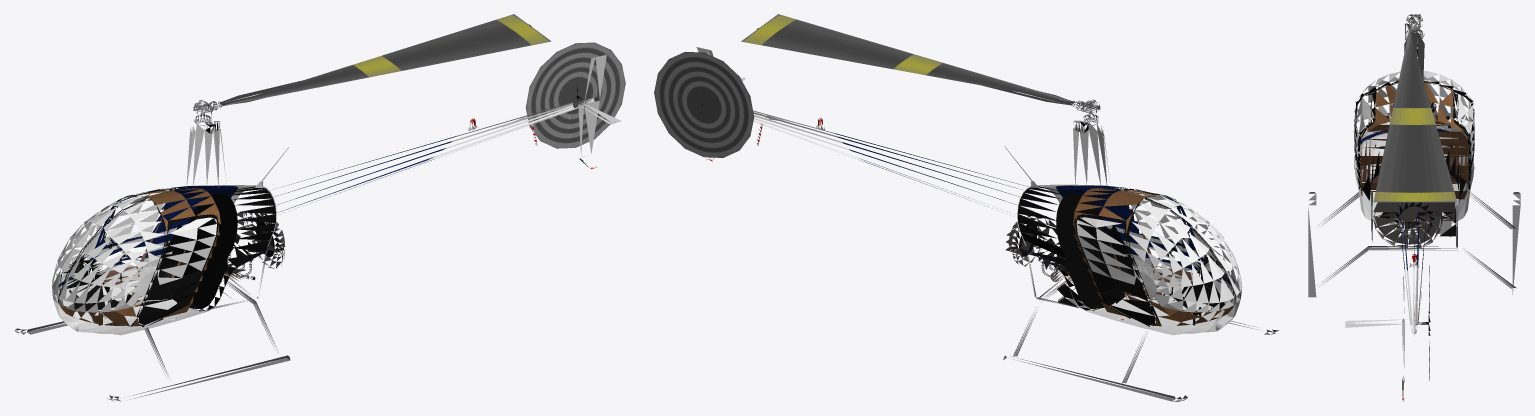
3 views of the same model, side by side, from view 1: azimuth 30°, elevation 25°; view 2: azimuth 150°, elevation 25°; view 3: azimuth 270°, elevation 25° (orthographic). The views are drawn at different scales.
Parts seen in each view (by area): view 1: Tdisc, Fuselage, Fblade1, glass, Boom, Fuselage.002, cabin_1, Rdoor.panel, Fuselage.004, Skids, Rdoor.glass, Panel (+4 smaller); view 2: Tdisc, glass, Fuselage, Fblade1, Fuselage.002, cabin_1, Boom, Fuselage.004, Ldoor.panel, Ldoor.glass, Skids, Muffler.002 (+4 smaller); view 3: Fblade1, cabin_1, Muffler.002, Skids, Fuselage, Boom, glass, Fuselage.004, seats, Frame, Ldoor.glass, Rdoor.glass (+3 smaller).
Part boxes in pixels (<box>): Tdisc: <box>525,42,625,148</box>; Fuselage: <box>52,121,288,335</box>; Fblade1: <box>219,14,551,106</box>; glass: <box>52,195,163,312</box>; Boom: <box>272,54,621,214</box>; Fuselage.002: <box>103,193,237,309</box>; cabin_1: <box>57,188,220,326</box>; Rdoor.panel: <box>138,214,219,327</box>; Fuselage.004: <box>193,186,275,310</box>; Skids: <box>15,278,290,401</box>; Rdoor.glass: <box>157,217,216,284</box>; Panel: <box>59,254,131,311</box>; Tdisc: <box>654,52,754,157</box>; glass: <box>1129,195,1242,312</box>; Fuselage: <box>1004,120,1241,335</box>; Fblade1: <box>741,14,1075,102</box>; Fuselage.002: <box>1056,192,1123,308</box>; cabin_1: <box>1073,188,1236,326</box>; Boom: <box>696,47,1031,206</box>; Fuselage.004: <box>1017,186,1099,310</box>; Ldoor.panel: <box>1073,214,1155,326</box>; Ldoor.glass: <box>1076,217,1136,284</box>; Skids: <box>1003,277,1278,401</box>; Muffler.002: <box>1005,215,1056,266</box>; Fblade1: <box>1373,29,1457,202</box>; cabin_1: <box>1356,81,1474,199</box>; Muffler.002: <box>1373,202,1455,248</box>; Skids: <box>1308,192,1520,297</box>; Fuselage: <box>1354,38,1474,227</box>; Boom: <box>1345,202,1427,401</box>; glass: <box>1353,70,1475,140</box>; Fuselage.004: <box>1363,150,1466,199</box>; seats: <box>1360,138,1468,196</box>; Frame: <box>1371,191,1457,247</box>; Ldoor.glass: <box>1457,93,1474,160</box>; Rdoor.glass: <box>1354,96,1371,160</box>.
Bounding box in the file's own units: 6.79 × 2.58 × 1.91.
Materials: 75 (62 with a texture image).
